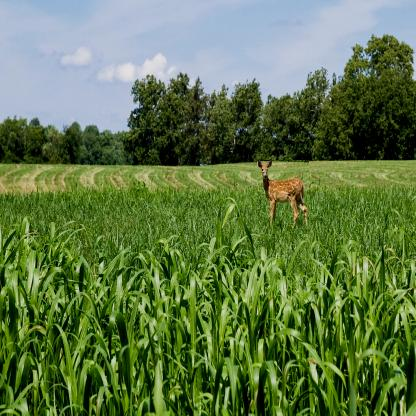Deer: (257, 160, 309, 234)
